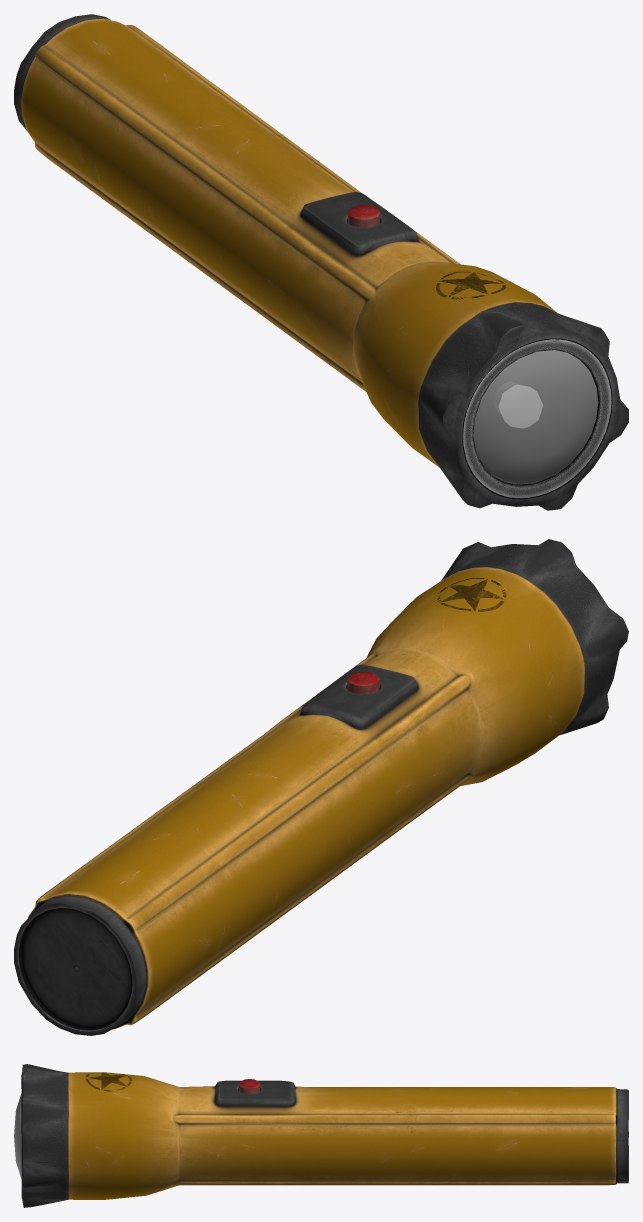
File: flashlight2.glb
The picture shows the model from 3 angles, top to bottom: view 1: azimuth 30°, elevation 25°; view 2: azimuth 150°, elevation 25°; view 3: azimuth 270°, elevation 25°; orthographic projection. The views are drawn at different scales.
Visible parts, largest first — view 1: Flashlight; view 2: Flashlight; view 3: Flashlight.
Boxes of the visible parts, x1,y1,x2,y2 form: Flashlight: (14,14,628,510); Flashlight: (14,539,628,1035); Flashlight: (14,1064,628,1207).
Bounding box in the file's own units: 0.3628 × 0.3621 × 1.58.
2 materials, 2 textured.
